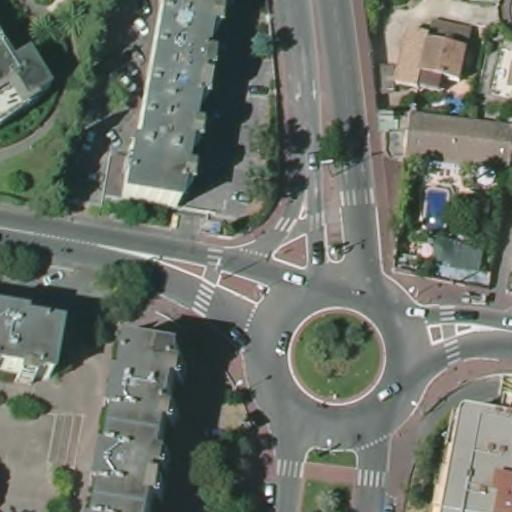pool: (424, 183, 450, 231)
